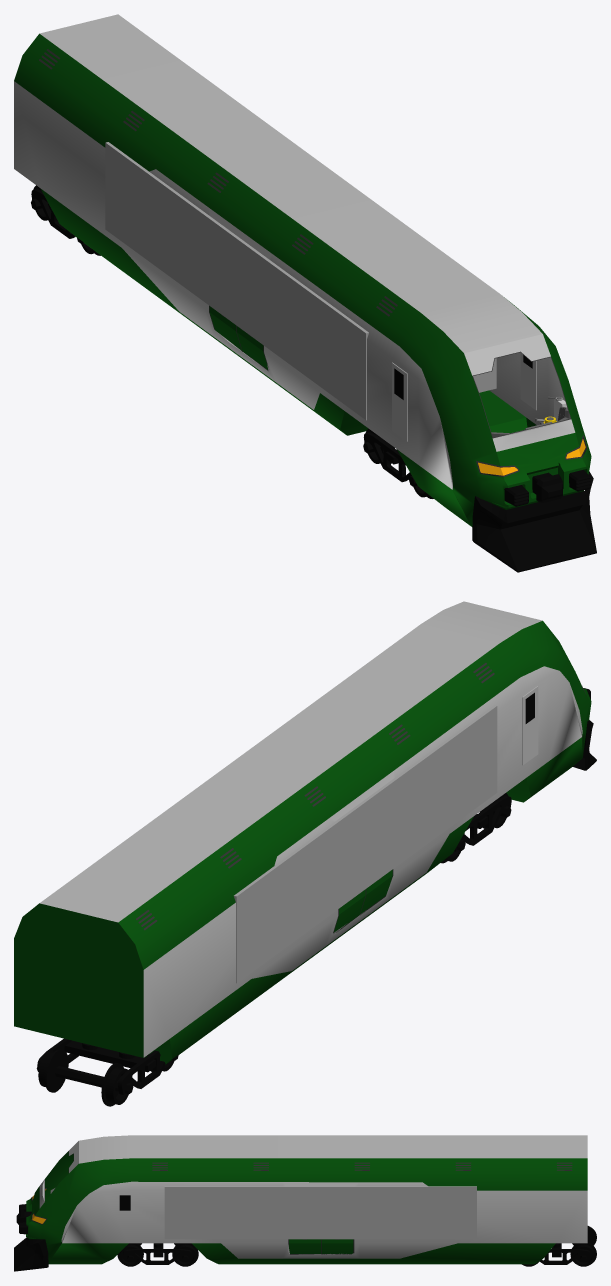
File: locomotive_with_cab.glb
The picture shows the model from 3 angles, top to bottom: view 1: azimuth 30°, elevation 25°; view 2: azimuth 150°, elevation 25°; view 3: azimuth 270°, elevation 25°; orthographic projection. The views are drawn at different scales.
Visible parts, largest first — view 1: Box009, Box (×3), Line004, Box012; view 2: Box009, Box (×2), Line004 (×2), Circle015, Rectangle004, Circle014, NGon009; view 3: Box009, Box, Line004 (×2), Circle014 (×2), Circle015, Circle016.
Part boxes in pixels (bbox=[...]): Box009: bbox=[14, 14, 596, 572]; Box (×3): bbox=[105, 142, 536, 441]; Line004: bbox=[363, 432, 419, 487]; Box012: bbox=[532, 472, 562, 502]; Box009: bbox=[14, 601, 596, 1064]; Box (×2): bbox=[234, 686, 538, 983]; Line004 (×2): bbox=[37, 795, 511, 1094]; Circle015: bbox=[44, 1049, 123, 1106]; Rectangle004: bbox=[64, 1040, 155, 1072]; Circle014: bbox=[38, 1050, 128, 1104]; NGon009: bbox=[36, 1066, 133, 1093]; Box009: bbox=[14, 1135, 587, 1271]; Box: bbox=[164, 1186, 476, 1239]; Line004 (×2): bbox=[123, 1249, 590, 1264]; Circle014 (×2): bbox=[174, 1244, 594, 1266]; Circle015: bbox=[570, 1226, 596, 1263]; Circle016: bbox=[119, 1244, 141, 1266].
Bounding box in the file's own units: 3.58 × 4.92 × 22.97.
